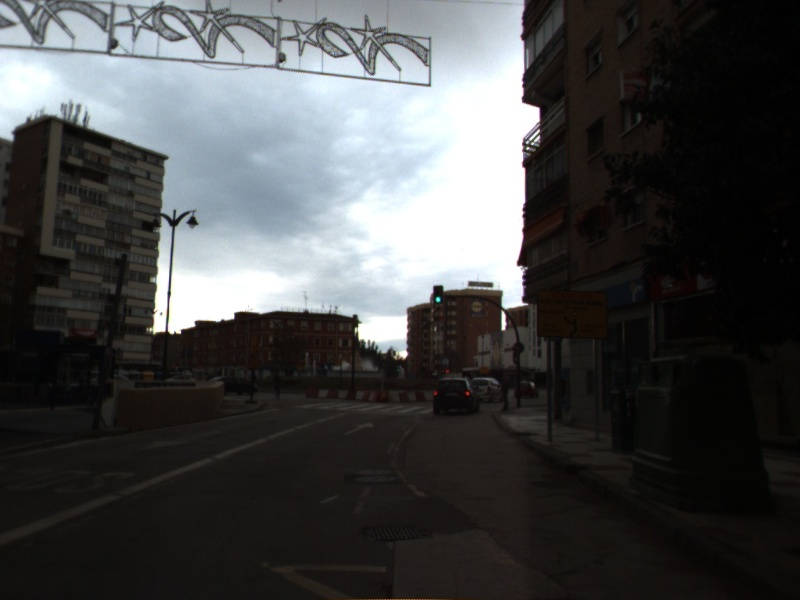STRAIGHT: (341, 420, 375, 437)
